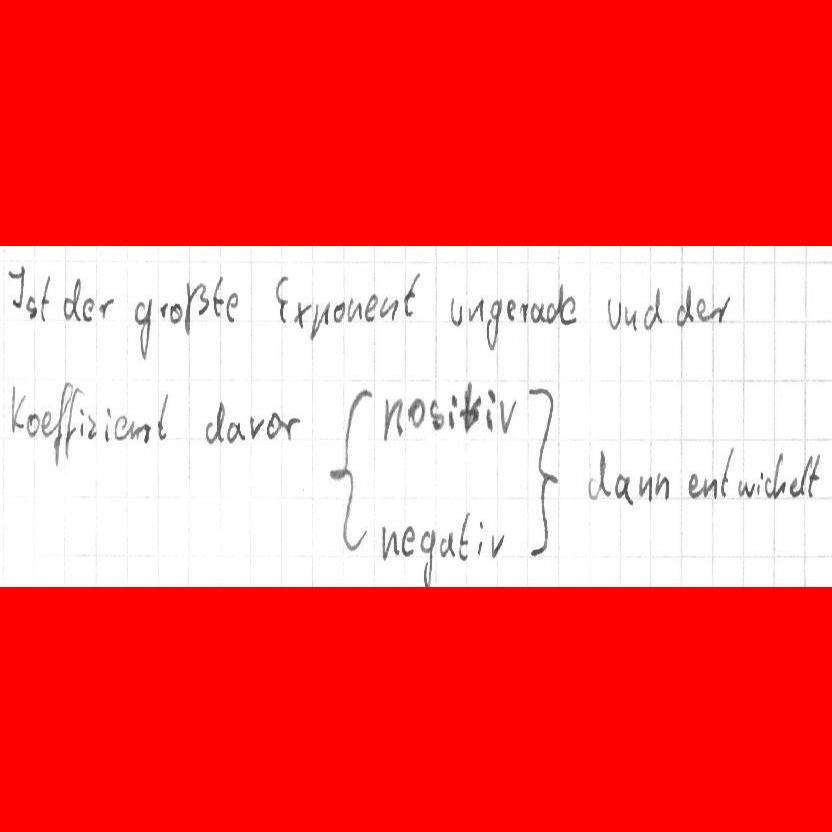Char: (326, 383, 373, 556), (181, 280, 209, 338), (51, 380, 69, 463), (133, 295, 153, 361), (588, 448, 612, 501), (417, 527, 437, 588), (462, 380, 484, 435), (380, 393, 403, 443), (307, 299, 332, 343), (719, 444, 738, 501), (64, 389, 79, 459), (5, 262, 25, 313), (485, 296, 503, 352), (204, 399, 225, 446), (402, 270, 422, 318), (62, 275, 82, 322), (674, 283, 694, 328), (38, 271, 55, 323), (9, 382, 26, 434), (272, 275, 290, 324), (379, 522, 400, 564), (155, 392, 172, 443), (642, 286, 662, 329), (544, 281, 562, 328), (498, 396, 519, 436), (457, 508, 472, 561), (770, 452, 786, 500), (613, 471, 634, 507), (211, 273, 226, 320), (808, 451, 822, 500), (408, 394, 426, 430), (711, 295, 732, 325), (799, 451, 812, 499), (280, 415, 303, 442), (559, 292, 577, 326), (399, 522, 416, 558), (604, 295, 621, 330), (446, 294, 465, 325), (485, 385, 497, 434), (438, 529, 456, 561), (429, 394, 444, 432), (378, 294, 398, 322), (445, 391, 459, 430), (291, 299, 311, 326), (466, 295, 484, 325), (224, 289, 239, 324), (225, 420, 246, 445), (96, 293, 116, 319), (345, 295, 362, 325), (654, 470, 671, 500), (701, 473, 719, 501), (25, 409, 41, 440), (39, 406, 55, 437), (685, 468, 701, 499), (248, 412, 265, 441), (637, 471, 652, 503), (489, 532, 507, 558), (267, 409, 282, 440), (102, 408, 114, 446), (623, 302, 638, 332), (528, 299, 546, 323), (80, 295, 95, 323), (364, 293, 378, 323), (113, 413, 128, 441), (330, 299, 346, 325), (736, 476, 754, 499), (25, 294, 39, 320), (476, 518, 485, 558), (506, 294, 518, 323), (694, 293, 706, 322), (168, 302, 183, 324), (86, 413, 98, 440), (756, 468, 765, 500), (788, 475, 799, 500), (518, 299, 528, 325), (77, 406, 85, 436), (158, 299, 167, 320), (765, 476, 772, 500)
